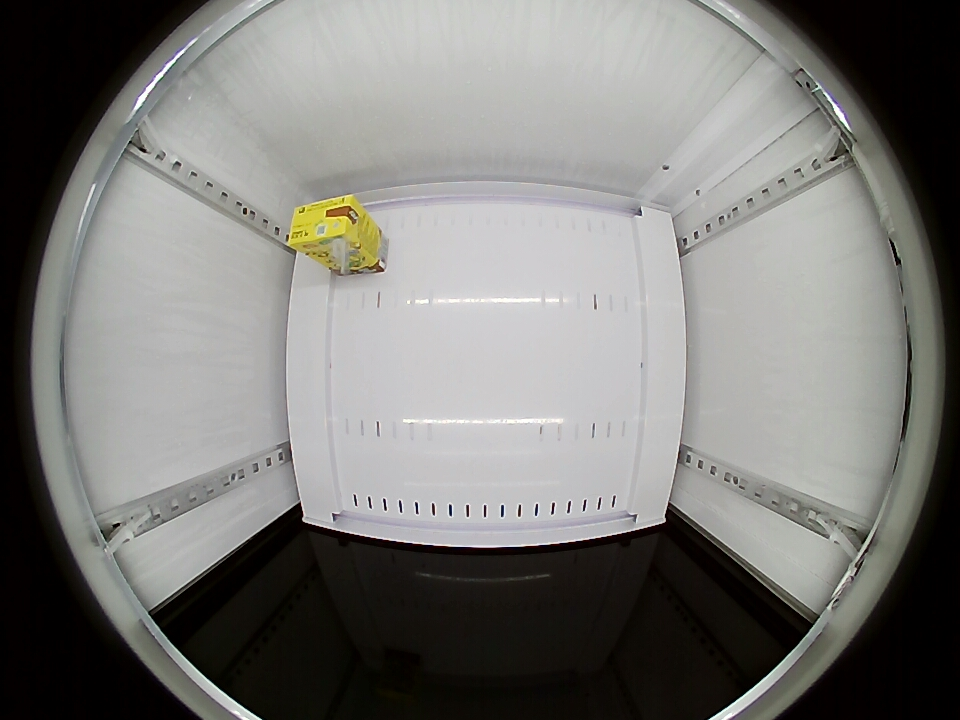weitaningmeng: (287, 195, 366, 256)
